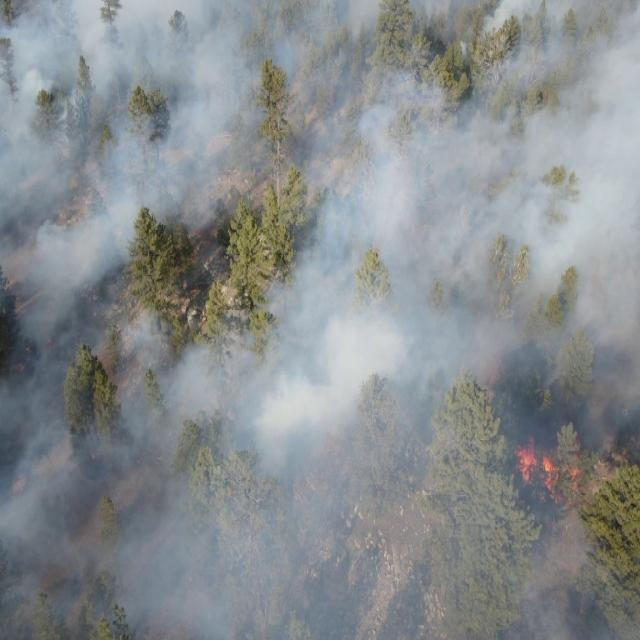fire: (506, 422, 606, 508), (12, 361, 29, 378), (45, 332, 56, 350), (22, 343, 36, 357)
smoke: (0, 0, 640, 640)
